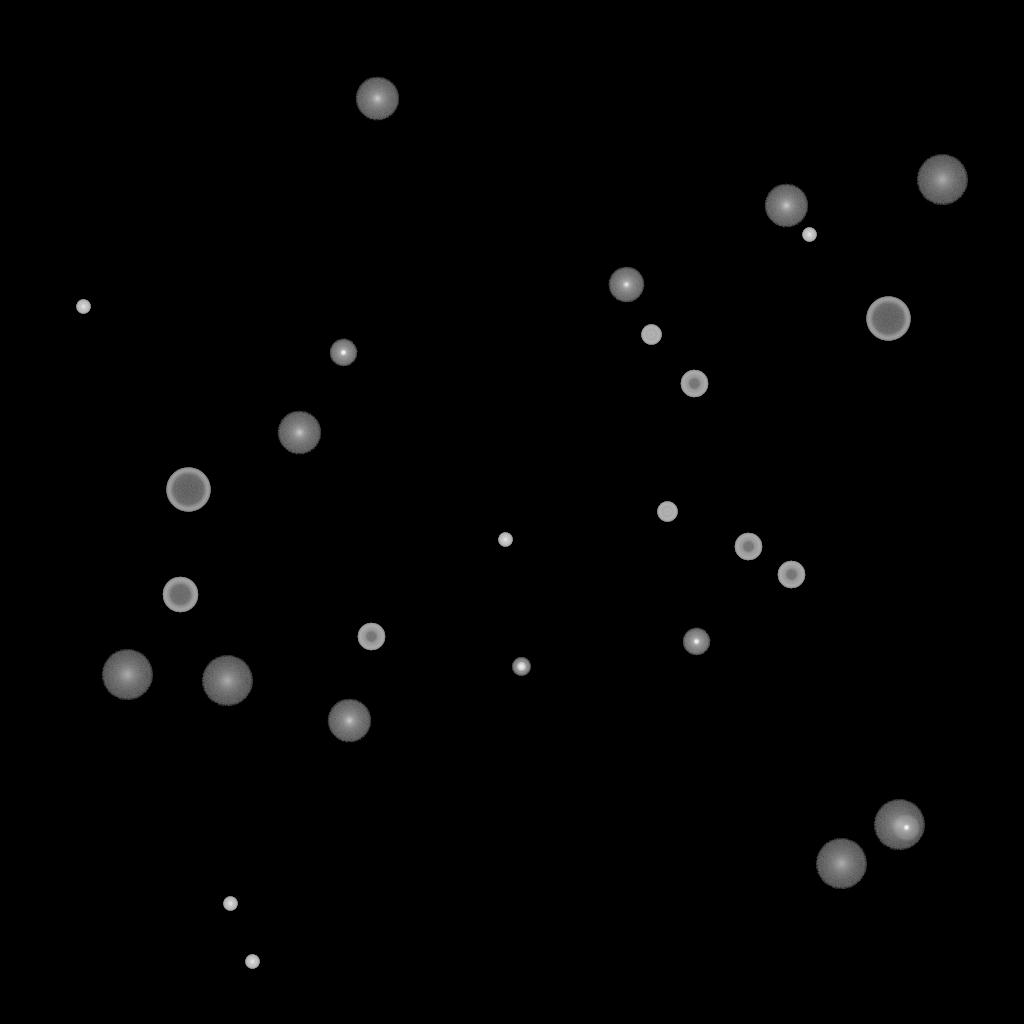depth:-10: (892, 814, 920, 842), (329, 339, 357, 367), (682, 628, 710, 656)
depth:-20: (512, 658, 530, 676)
depth:-30: (498, 533, 512, 547), (802, 228, 816, 242), (223, 897, 237, 911), (76, 300, 90, 314), (245, 955, 259, 969)
depth:-40: (657, 502, 677, 522), (641, 325, 661, 345)
depth:-50: (357, 623, 385, 651), (734, 533, 762, 561), (680, 370, 708, 398), (777, 561, 805, 589)
depth:-60: (162, 577, 198, 613)
depth:-70: (166, 468, 210, 512), (866, 297, 910, 341)
depth:0: (608, 267, 644, 303)
depth:10: (277, 411, 321, 455), (327, 699, 371, 743), (764, 184, 808, 228), (355, 77, 399, 121)
depth:20: (101, 650, 153, 700), (201, 656, 253, 706), (815, 839, 867, 889), (873, 800, 925, 850), (916, 155, 968, 205)
